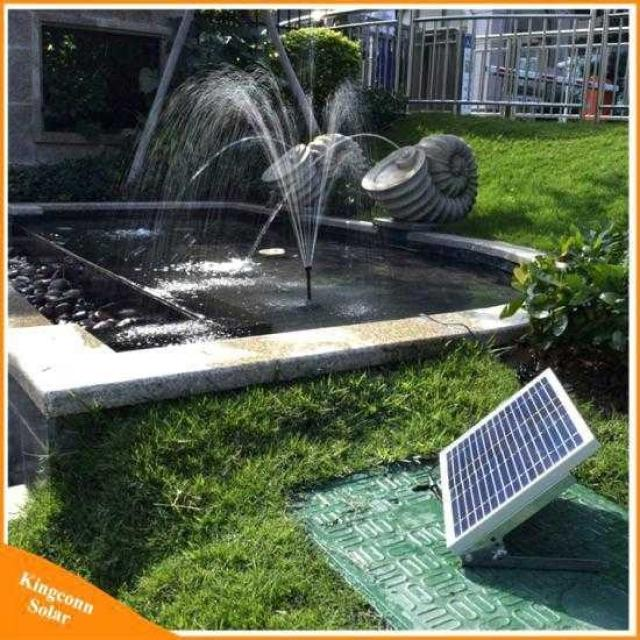Ponds: (7, 201, 574, 421)
